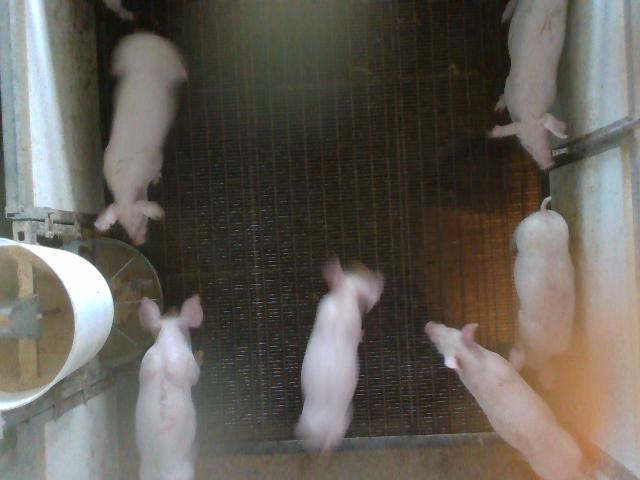pig-3: (139, 295, 201, 479)
pig-4: (510, 198, 575, 369)
